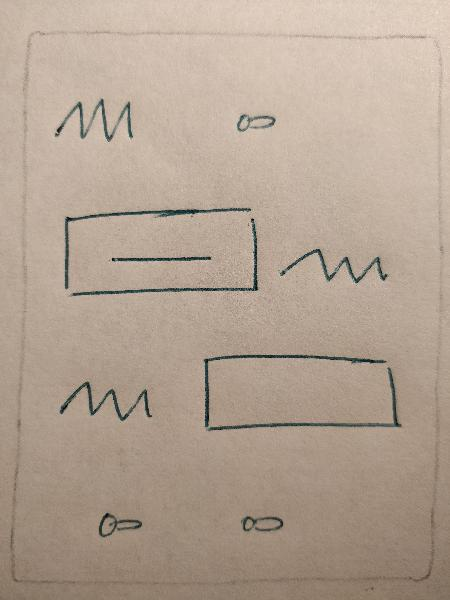button: (53, 196, 276, 306)
switch: (216, 497, 311, 543), (82, 497, 155, 545), (224, 99, 290, 145)
text: (45, 364, 157, 432), (271, 237, 400, 291), (44, 88, 150, 152)
text_input: (191, 340, 413, 442)
